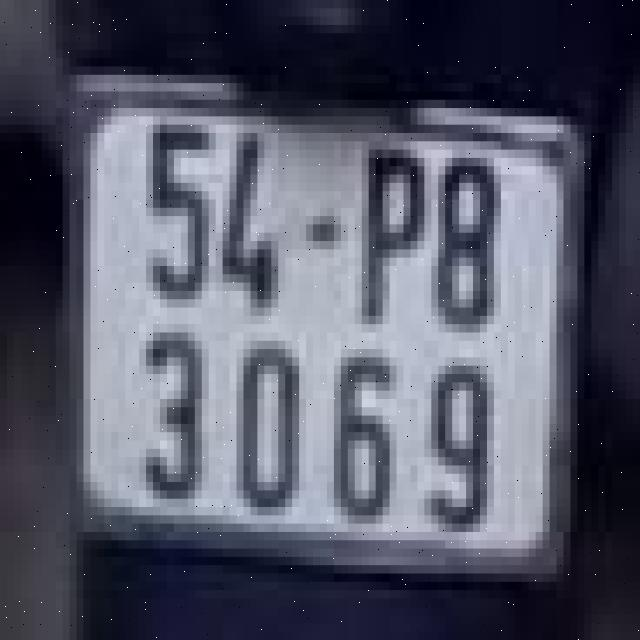0: (230, 332, 306, 524)
3: (125, 320, 209, 503)
4: (223, 125, 278, 316)
5: (139, 120, 216, 304)
6: (330, 341, 400, 532)
8: (431, 145, 508, 345)
9: (421, 349, 504, 549)
P: (355, 141, 431, 341)
